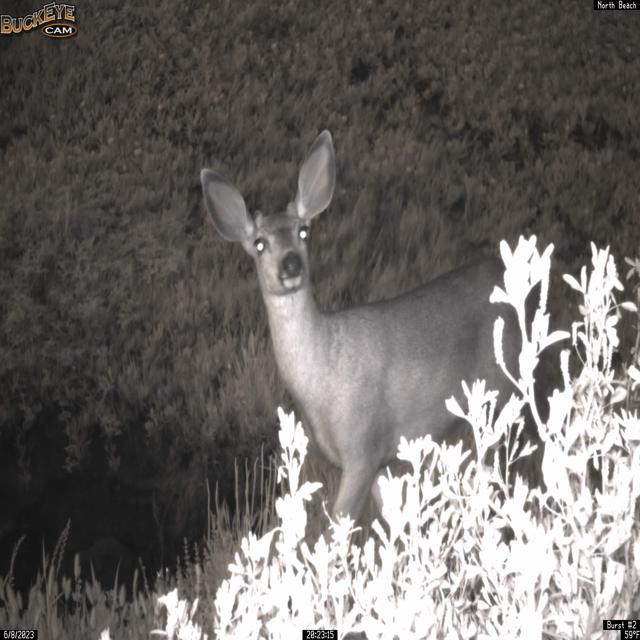deer: (199, 128, 554, 572)
